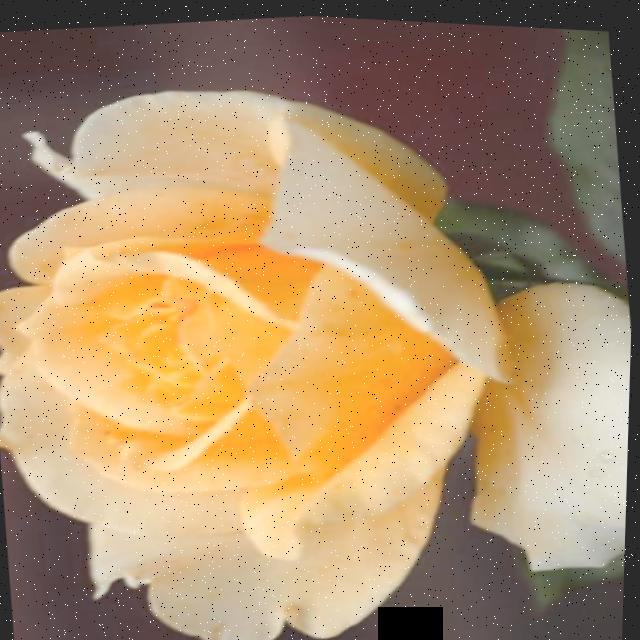rose: (0, 27, 639, 640)
